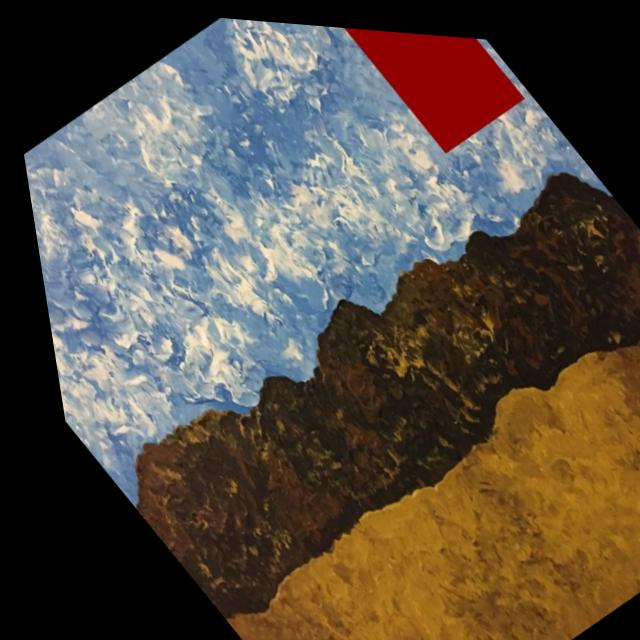RedSquare: (332, 21, 539, 160)
